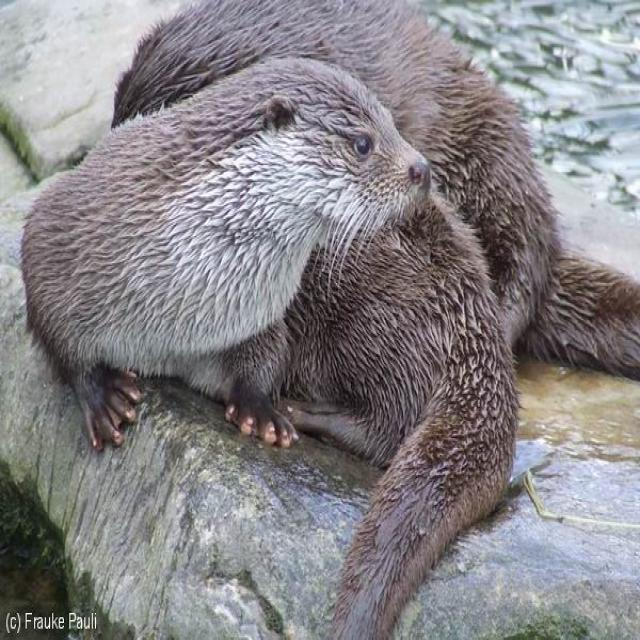otter: (23, 58, 518, 640), (115, 2, 640, 379)
